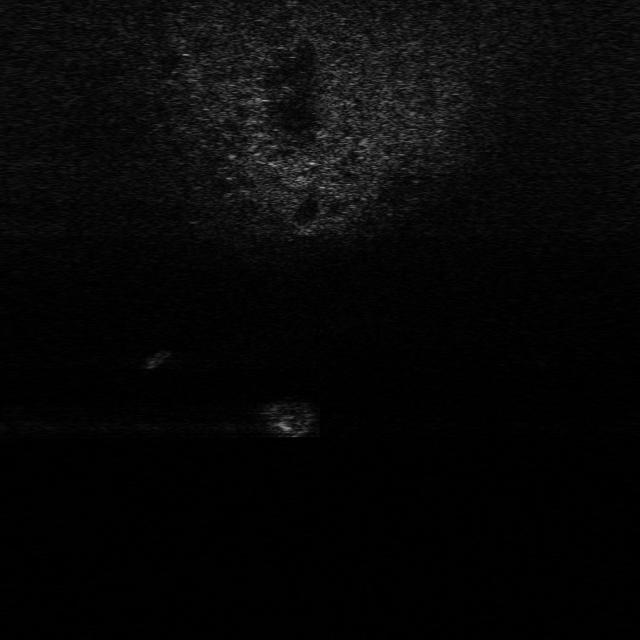circle cage: (257, 400, 327, 440)
cylinder: (142, 345, 173, 376)
